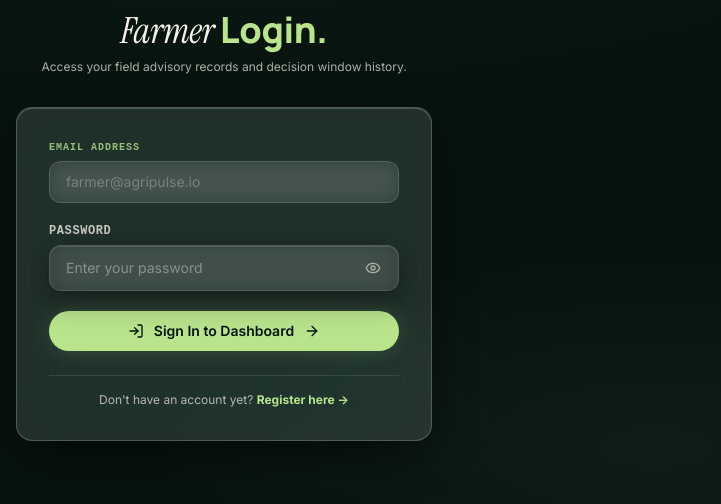
Test: Stage 11J Frontend Auth & Password Component Tests › 4. LoginPage validates email and password requirements
Click the button "Sign In to Dashboard" at (224, 331), box top-left (49, 311), bottom-right (399, 351)
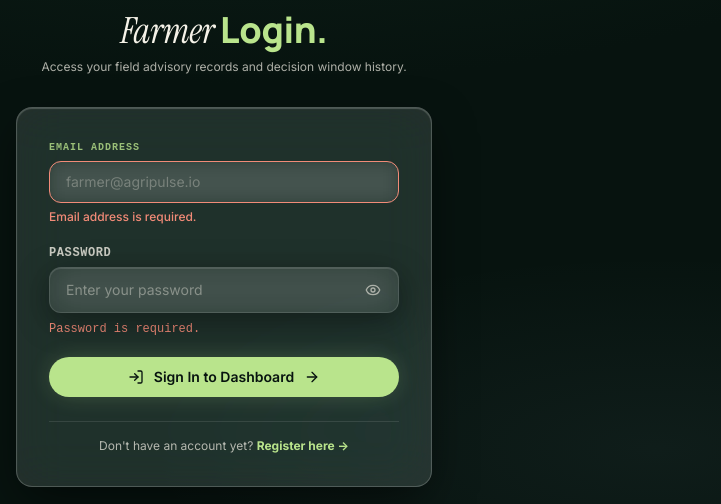
Expected: the text "Email address is required." is shown, top-left (49, 209), bottom-right (196, 224)
Expected: the text "Password is required." is shown, top-left (49, 322), bottom-right (200, 336)
